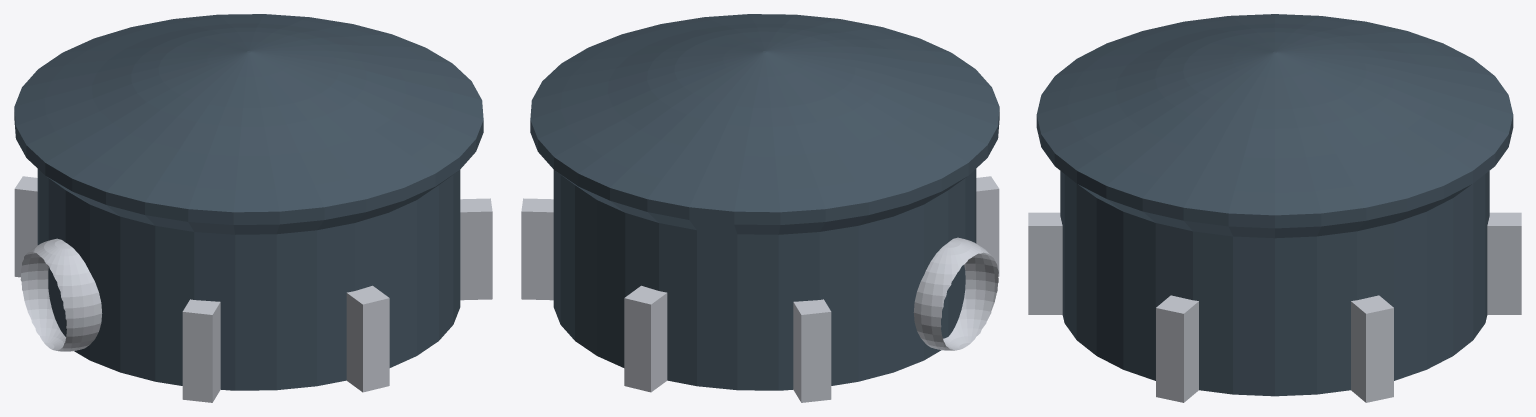
The model's file is Spaceship.fbx.
The picture shows the model from 3 angles, left to right: view 1: azimuth 30°, elevation 25°; view 2: azimuth 150°, elevation 25°; view 3: azimuth 270°, elevation 25°; orthographic projection.
Parts seen in each view (by area): view 1: Cylinder, Sphere; view 2: Cylinder, Sphere; view 3: Cylinder.
Boxes of the visible parts, <box> form: Cylinder: <box>14,14,492,402</box>; Sphere: <box>20,238,102,351</box>; Cylinder: <box>521,14,999,402</box>; Sphere: <box>913,237,998,350</box>; Cylinder: <box>1028,14,1521,402</box>.
Bounding box in the file's own units: 226 × 130 × 230.
